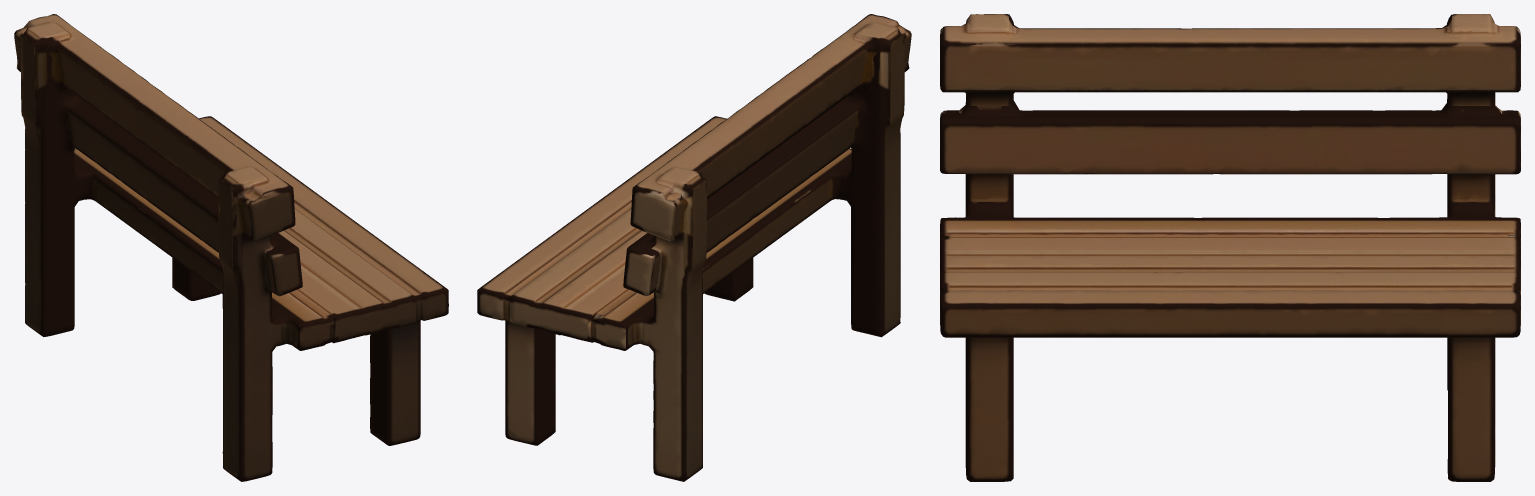
Rendered from garden_bench.fbx.
3 views of the same model, side by side, from view 1: azimuth 30°, elevation 25°; view 2: azimuth 150°, elevation 25°; view 3: azimuth 270°, elevation 25° (orthographic). The views are drawn at different scales.
Visible parts, largest first — view 1: Bench; view 2: Bench; view 3: Bench.
Part boxes in pixels (x1,y1,x2,y2): Bench: (14,14,448,481); Bench: (477,14,911,481); Bench: (940,14,1520,481).
Size of the model in its own units: 85.76 by 120 by 174.
1 material, 1 textured.
